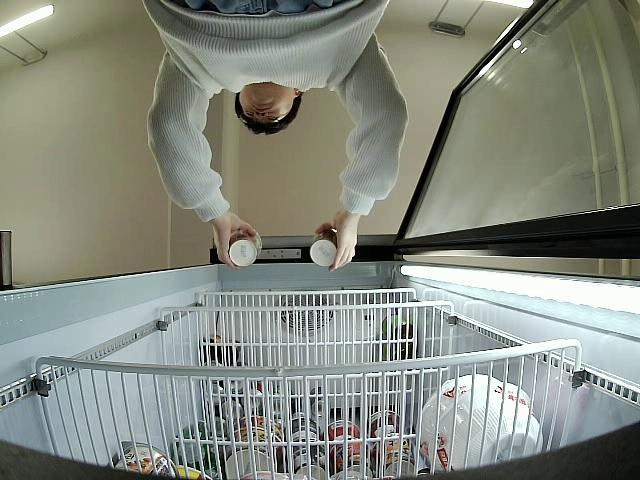04_chapagetti_S: (226, 232, 264, 270), (308, 230, 338, 268)
